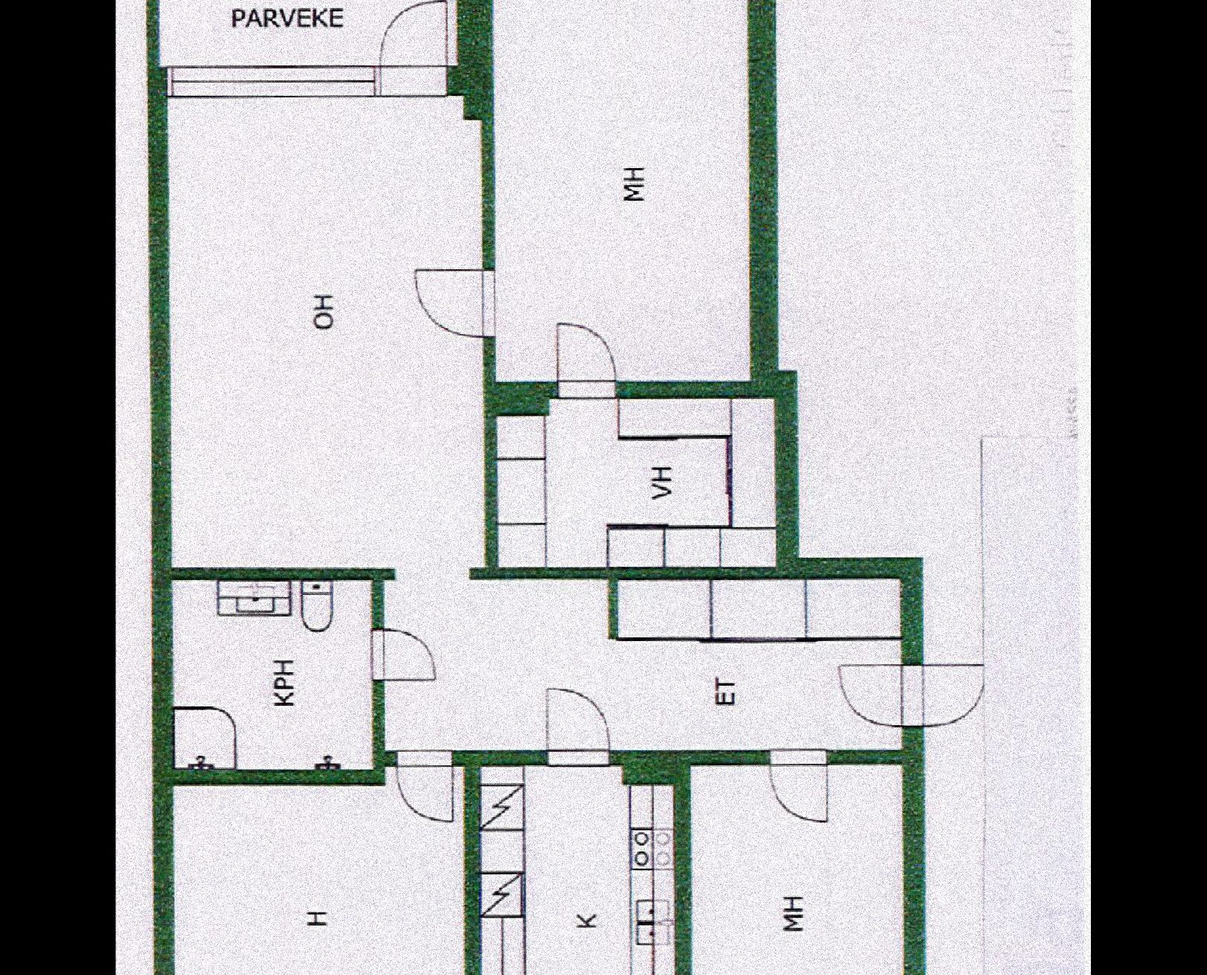door: (834, 660, 989, 727), (398, 261, 499, 345), (374, 0, 452, 104), (553, 301, 621, 405), (541, 684, 613, 769), (390, 745, 454, 827), (769, 751, 830, 824), (371, 627, 448, 682)
window: (165, 68, 374, 104)
zone: (172, 94, 903, 761), (495, 0, 751, 376), (175, 766, 464, 975), (500, 396, 775, 572), (689, 759, 900, 975), (172, 583, 369, 766), (153, 0, 461, 64)
